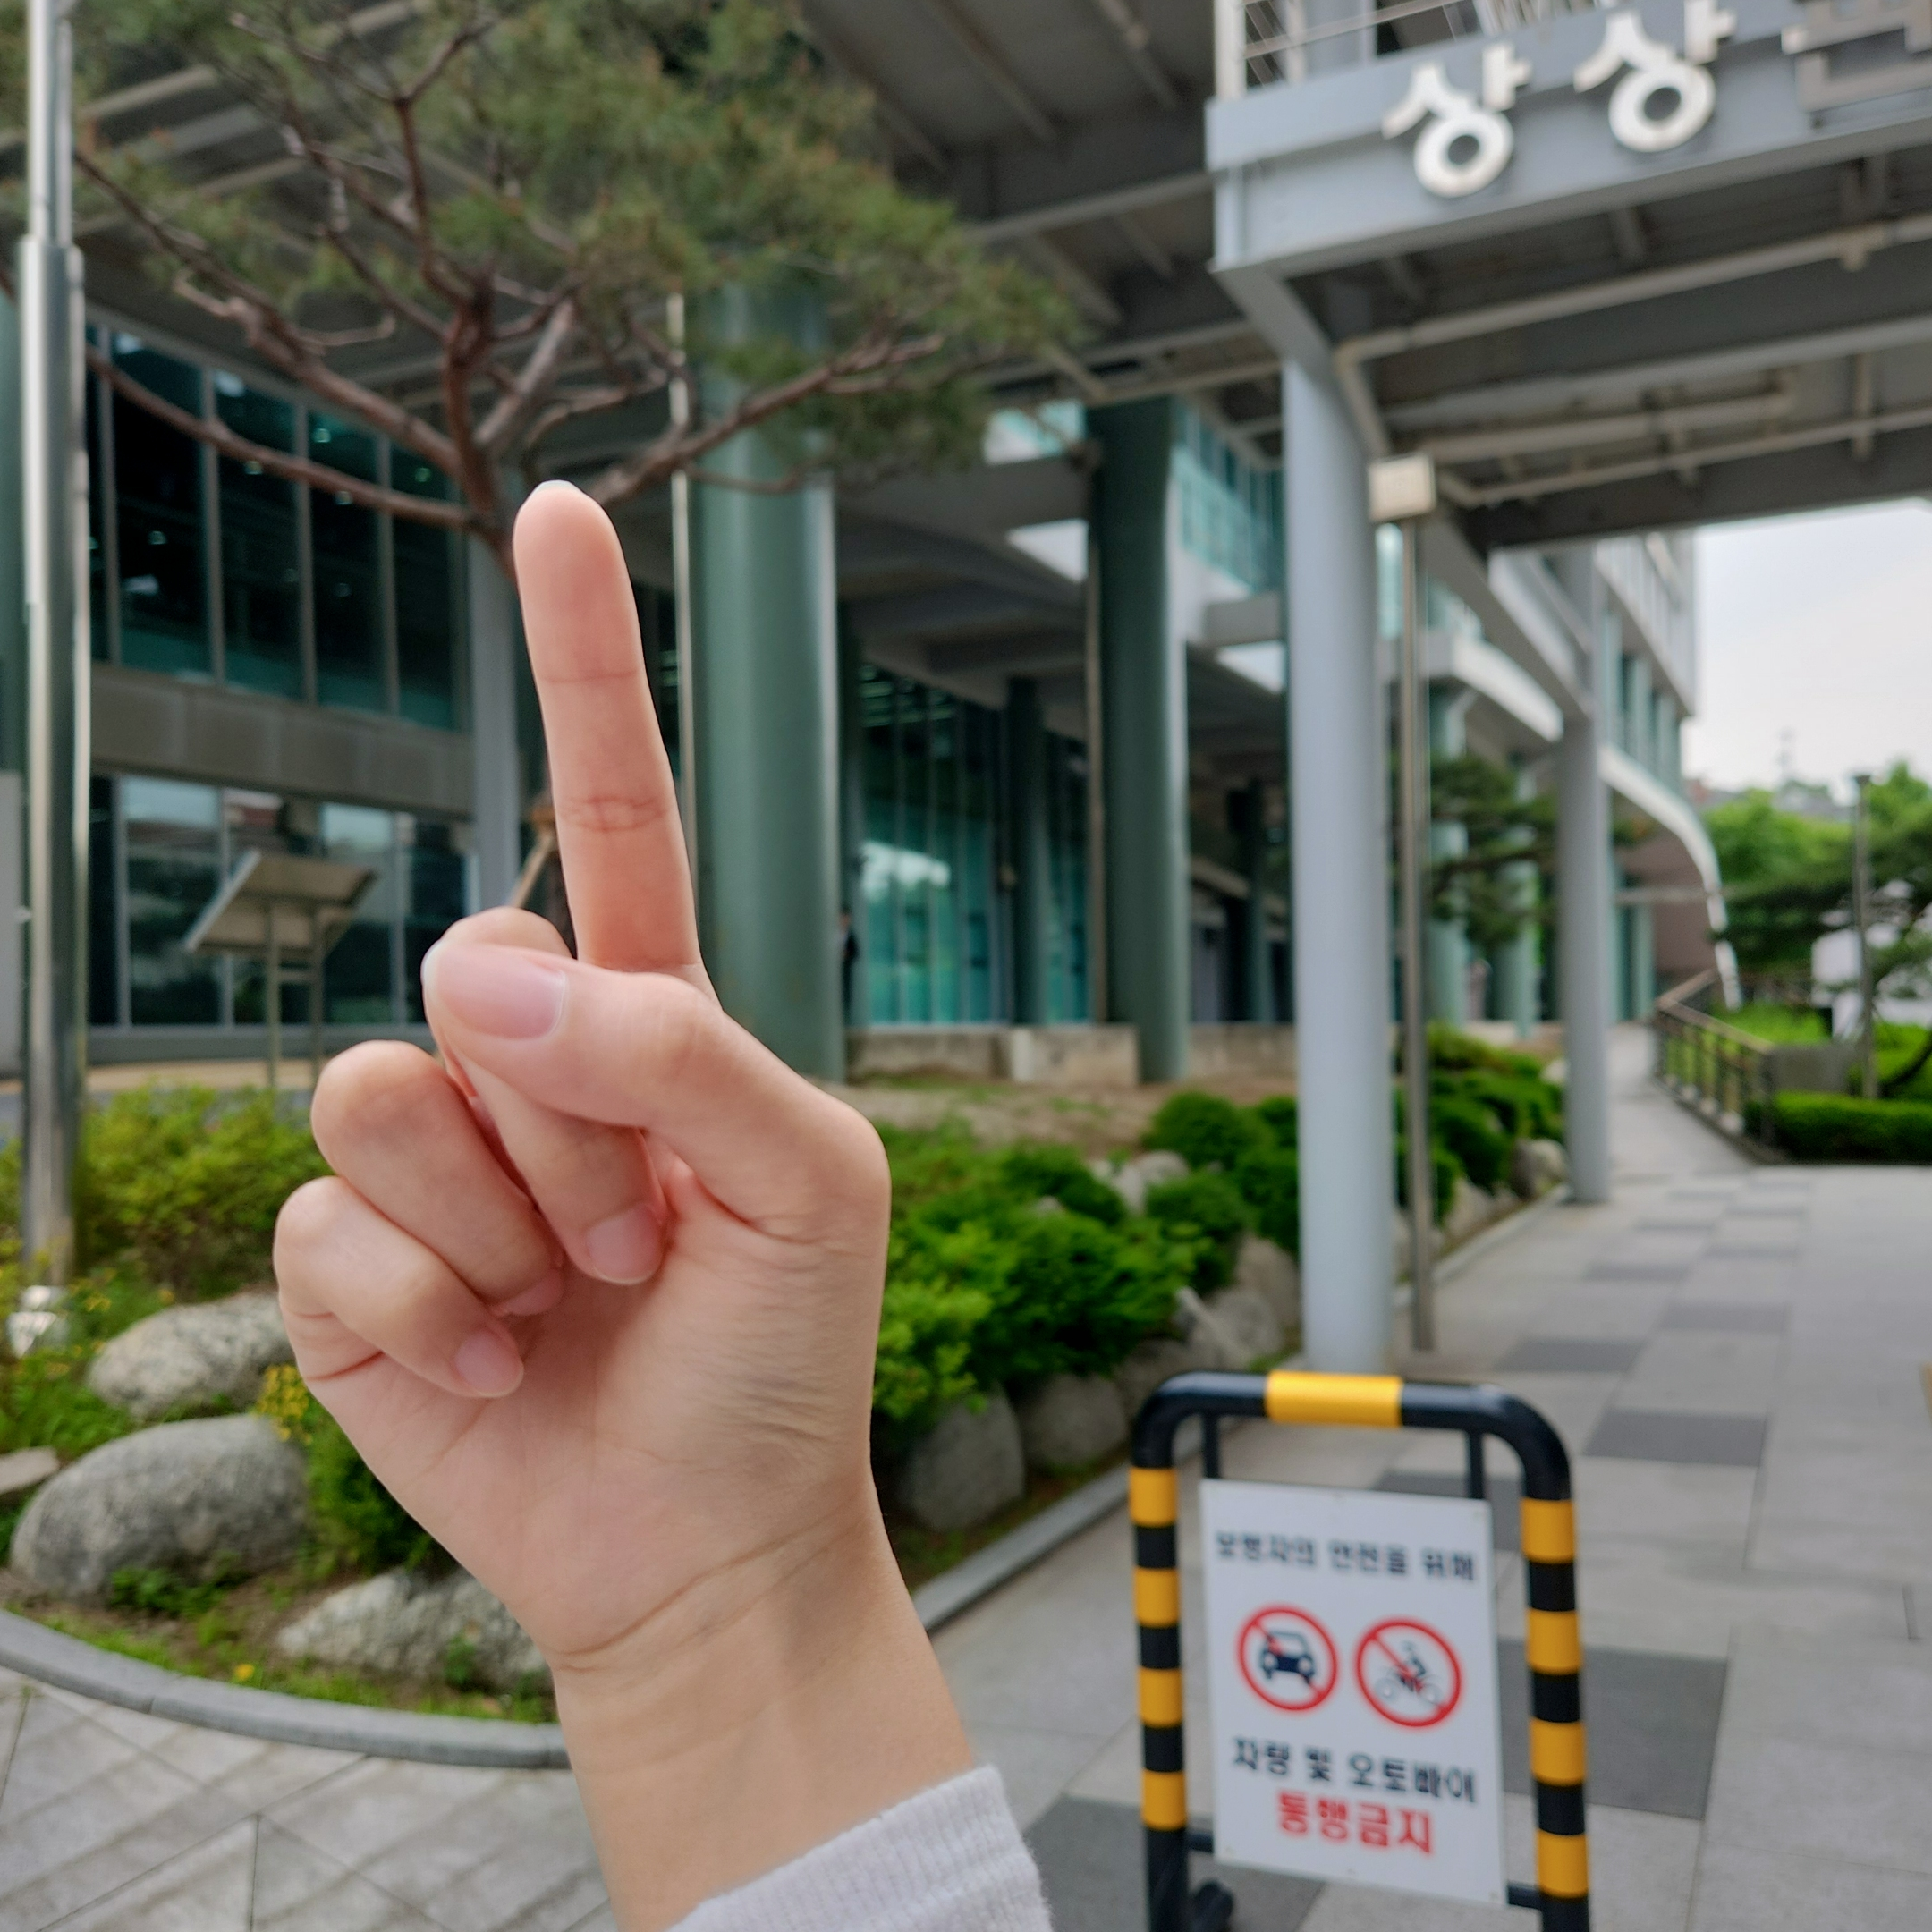what: (266, 478, 894, 1636)
